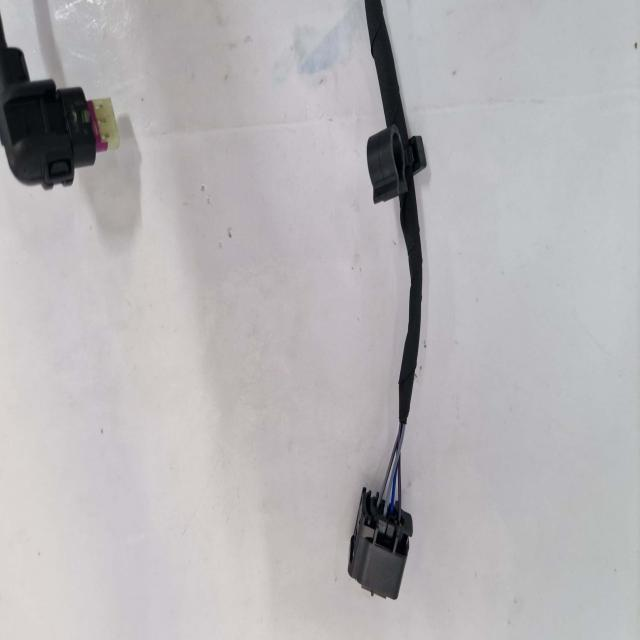Clip: (366, 125, 426, 203)
Connector: (0, 17, 119, 189), (348, 488, 412, 600)
Gape: (376, 421, 406, 519)
MHEV_N11_Cable: (365, 0, 426, 423)
